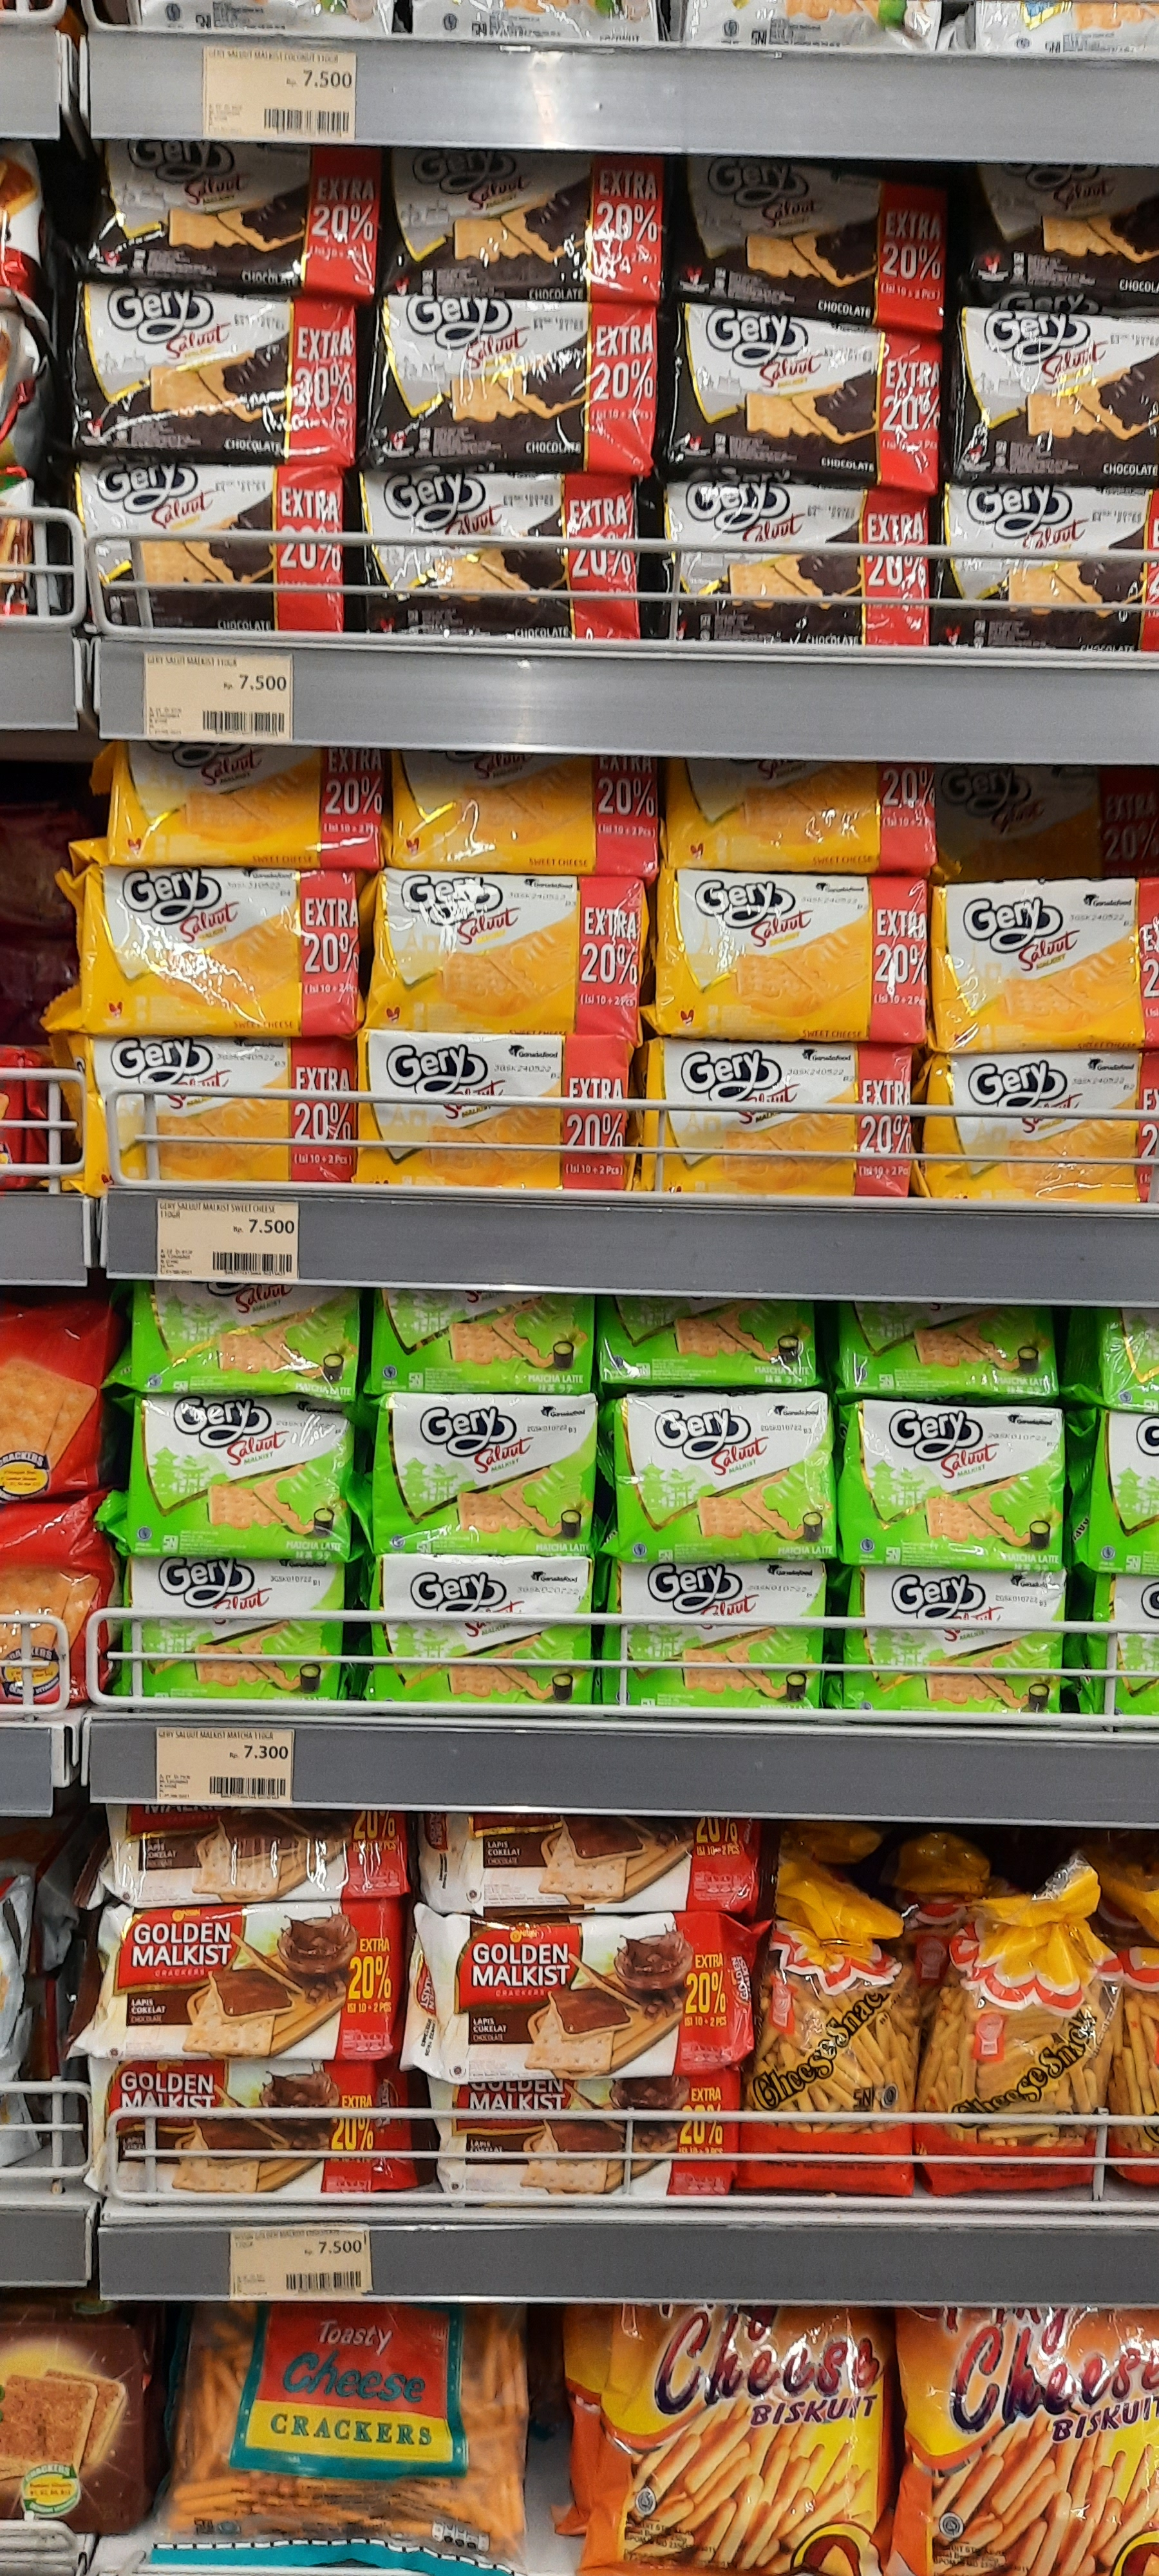90101225202100: (376, 294, 655, 462), (71, 460, 350, 628), (363, 468, 642, 636), (74, 289, 353, 457), (391, 125, 668, 292), (681, 149, 960, 315), (667, 310, 946, 476), (655, 485, 932, 651), (82, 133, 374, 278), (955, 310, 1159, 483), (939, 491, 1159, 651), (967, 156, 1159, 306)
90101225205100: (663, 874, 932, 1043), (648, 1043, 918, 1212), (366, 1028, 634, 1198), (371, 867, 639, 1037), (92, 853, 360, 1022), (87, 1030, 353, 1181), (918, 1046, 1159, 1209), (936, 881, 1157, 1045), (97, 743, 368, 864), (391, 746, 650, 871), (673, 756, 934, 867), (944, 759, 1156, 879)
90101225212100: (604, 1393, 827, 1554), (120, 1556, 343, 1717), (361, 1556, 583, 1717), (128, 1395, 351, 1554), (841, 1569, 1064, 1728), (596, 1556, 819, 1715), (366, 1393, 588, 1552), (845, 1405, 1067, 1564), (126, 1280, 358, 1393)
CheeseSnack: (926, 1917, 1121, 2195), (744, 1934, 913, 2190)
NissinGoldenMalkistChocolate: (405, 1911, 750, 2072), (95, 1898, 394, 2062), (90, 2060, 402, 2200), (427, 2075, 737, 2203)
